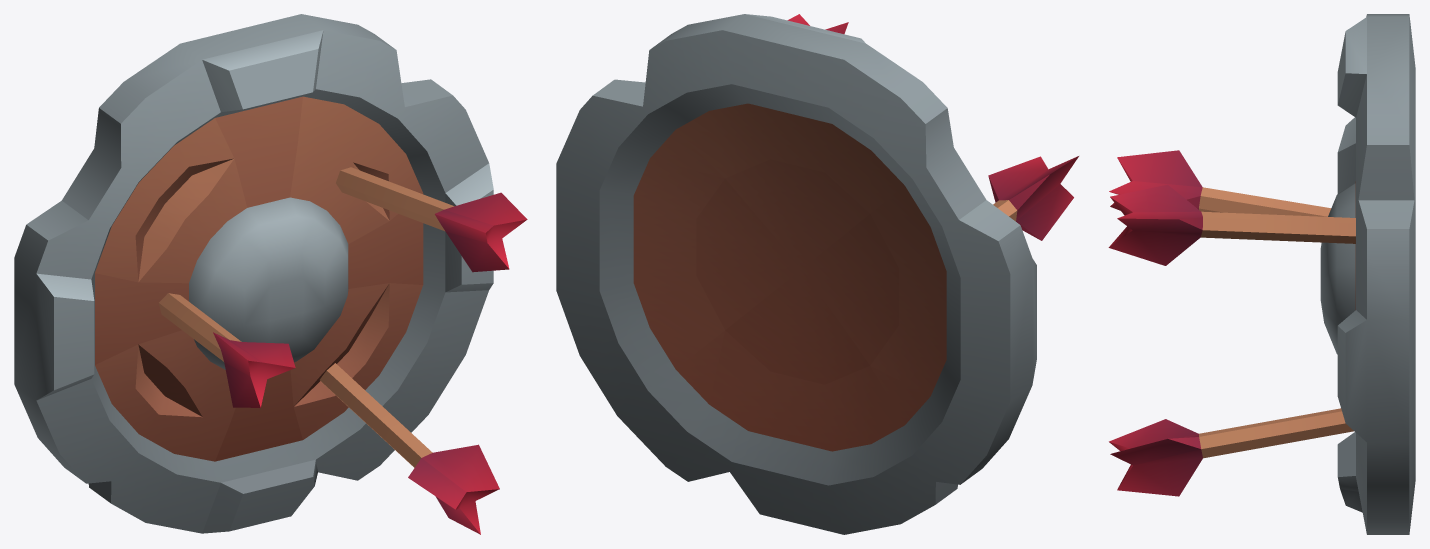
The model's file is Skeleton Shield-vS3QC5AvpV.glb.
3 renders of one model, left to right at view 1: azimuth 30°, elevation 25°; view 2: azimuth 150°, elevation 25°; view 3: azimuth 270°, elevation 25°, orthographic. The views are drawn at different scales.
Parts seen in each view (by area): view 1: Skeleton_Shield_Small_B; view 2: Skeleton_Shield_Small_B; view 3: Skeleton_Shield_Small_B.
Boxes of the visible parts, x1,y1,x2,y2 form: Skeleton_Shield_Small_B: (14,14,527,534); Skeleton_Shield_Small_B: (556,14,1078,534); Skeleton_Shield_Small_B: (1108,14,1415,534).
Bounding box in the file's own units: 0.8322 × 0.8322 × 0.5058.
Materials: 1 (1 with a texture image).
